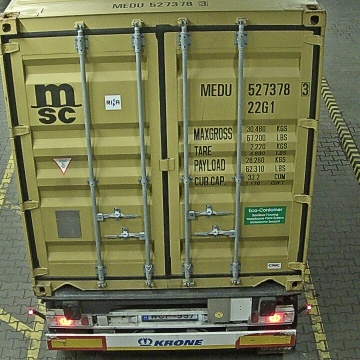serial_id: (201, 82, 310, 96)
